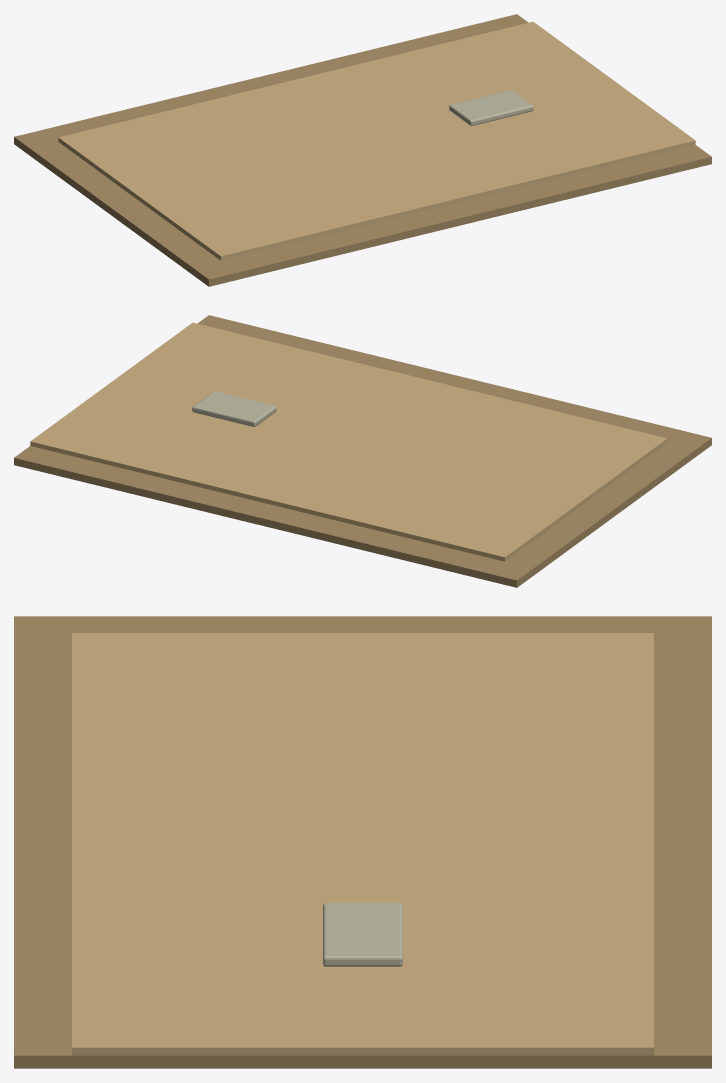
Rendered from path_end.glb.
The picture shows the model from 3 angles, top to bottom: view 1: azimuth 30°, elevation 25°; view 2: azimuth 150°, elevation 25°; view 3: azimuth 270°, elevation 25°; orthographic projection. The views are drawn at different scales.
Parts seen in each view (by area): view 1: path_end · path, path_end · path_edge, path_end · stone_light; view 2: path_end · path, path_end · path_edge, path_end · stone_light; view 3: path_end · path, path_end · path_edge, path_end · stone_light.
Boxes of the visible parts, x1,y1,x2,y2 form: path_end · path: [58, 21, 695, 260]; path_end · path_edge: [14, 14, 711, 286]; path_end · stone_light: [449, 90, 533, 125]; path_end · path: [30, 322, 667, 561]; path_end · path_edge: [14, 315, 711, 587]; path_end · stone_light: [192, 391, 276, 426]; path_end · path: [72, 633, 653, 1055]; path_end · path_edge: [14, 616, 711, 1068]; path_end · stone_light: [323, 903, 402, 966].
Bounding box in the file's own units: 0.715 × 0.024 × 0.48.
